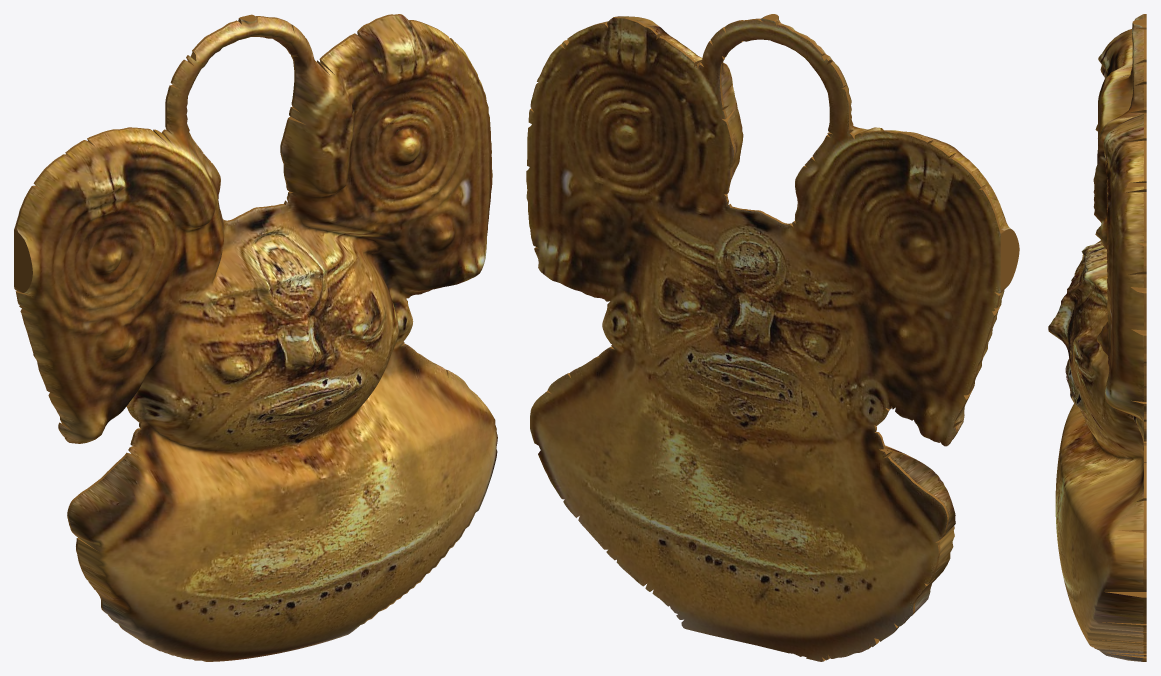
File: colgante_de_campana.glb
The picture shows the model from 3 angles, left to right: view 1: azimuth 30°, elevation 25°; view 2: azimuth 150°, elevation 25°; view 3: azimuth 270°, elevation 25°; orthographic projection. The views are drawn at different scales.
Visible parts, largest first — view 1: colgante_de_campana; view 2: colgante_de_campana; view 3: colgante_de_campana.
Boxes of the visible parts, <box> form: colgante_de_campana: <box>14,14,497,661</box>; colgante_de_campana: <box>526,14,1019,661</box>; colgante_de_campana: <box>1048,14,1146,661</box>.
Bounding box in the file's own units: 5.44 × 6.9 × 1.03.
1 material, 1 textured.
